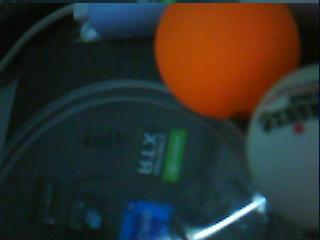oball: (155, 4, 297, 116)
